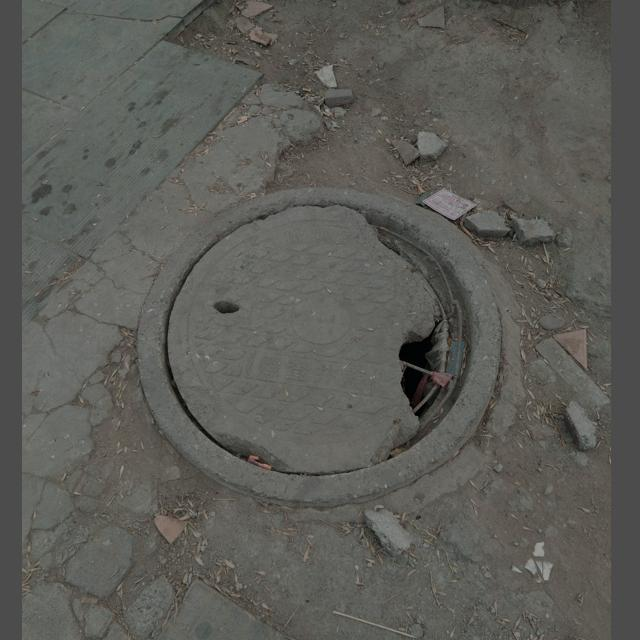broke: (134, 186, 502, 512)
